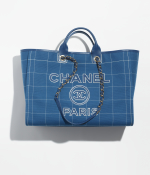channel: (12, 38, 142, 130), (50, 72, 108, 84), (66, 89, 89, 100)
